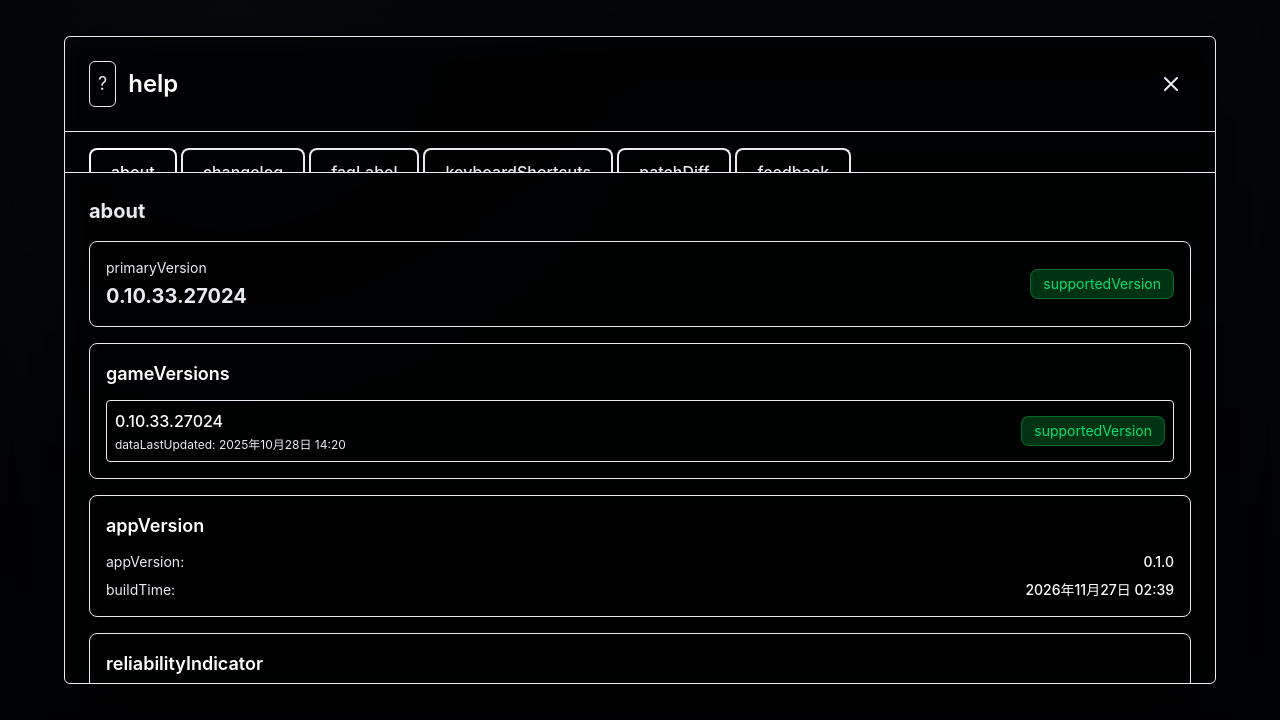
Test case: HelpModal › チェンジログの読み込みエラー時にエラーメッセージが表示される
The image size is (1280, 720).
expect the heading "help" is shown: met, box [128,68,178,100]
# チェンジログタブに切り替え
Click the tab "changelog" at (243, 160), box [181,148,305,172]
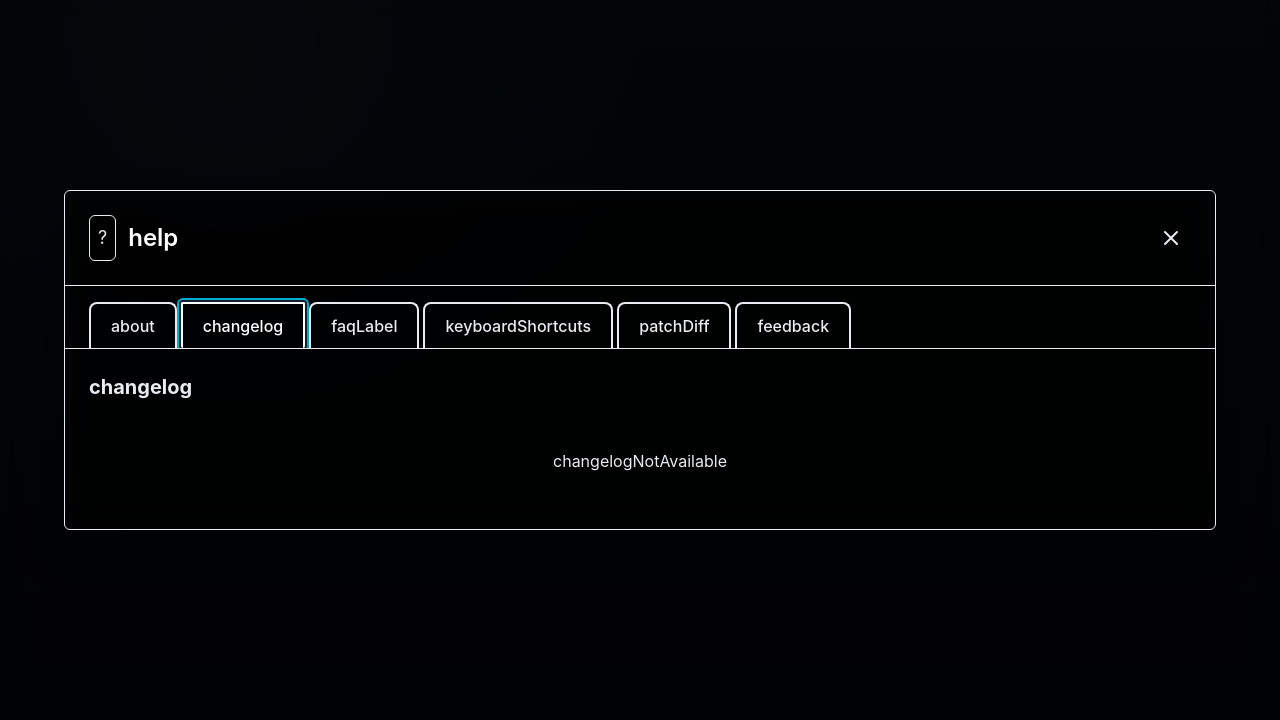
expect the text "changelogNotAvailable" is shown: met, box [553,451,727,471]
